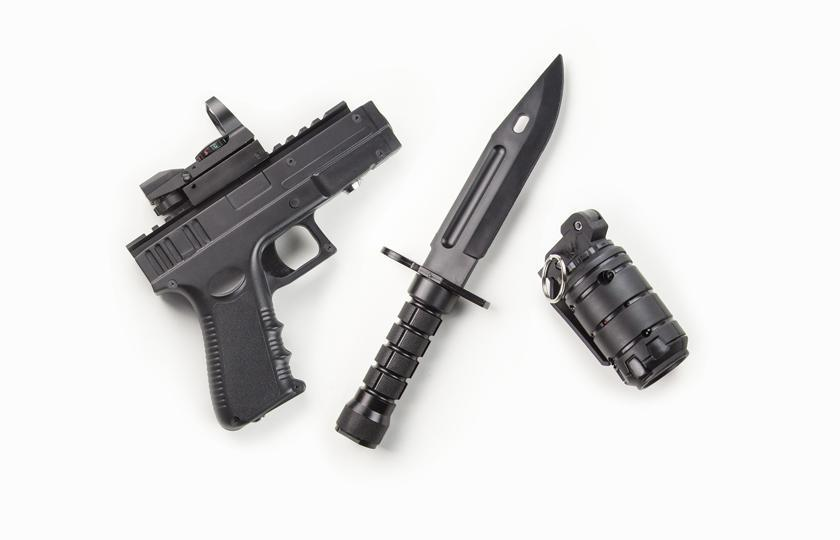Grenade: (536, 206, 688, 391)
Knife: (333, 51, 568, 448)
Pistol: (123, 93, 401, 431)
